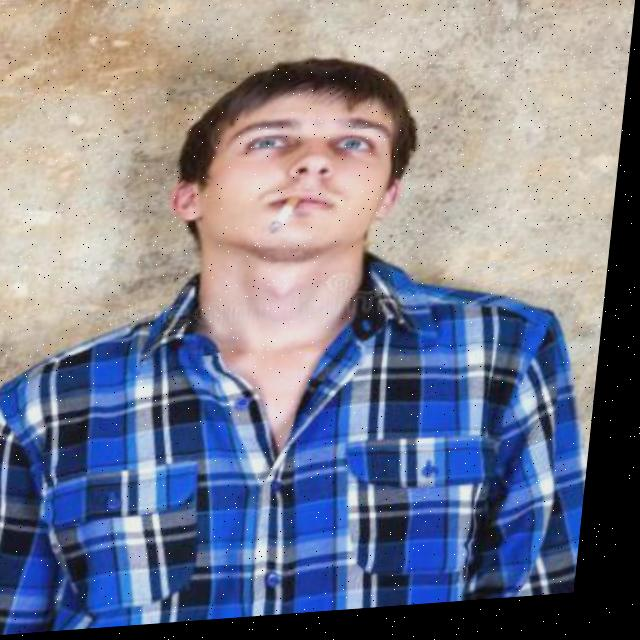cigarette: (271, 203, 306, 241)
